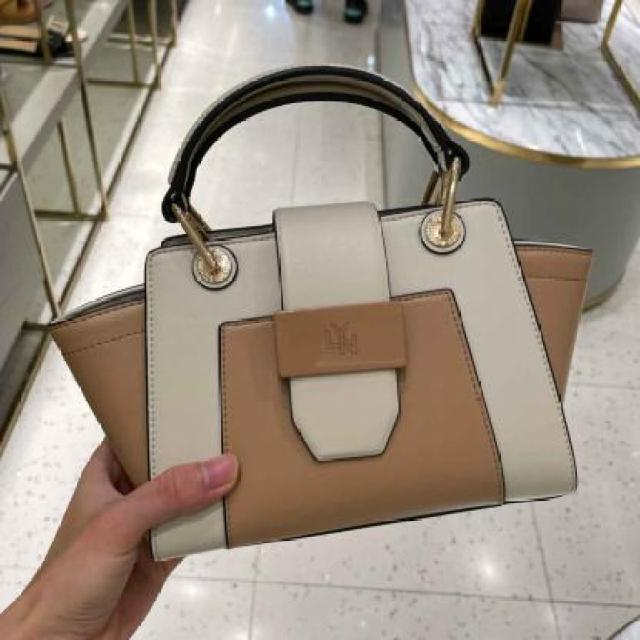Bag: (43, 57, 611, 557)
